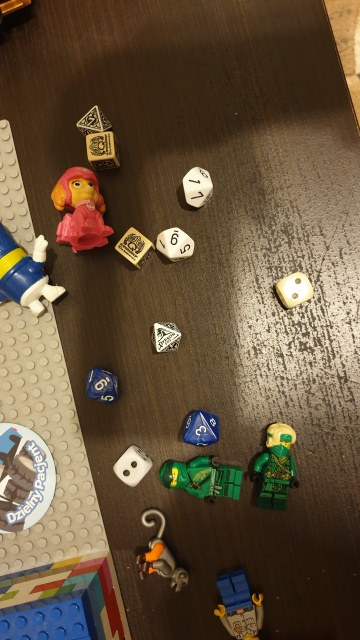d10-1: (179, 161, 218, 212)
d10-3: (177, 409, 223, 447)
d10-9: (77, 364, 126, 407), (152, 224, 197, 263)
d6-2: (271, 266, 315, 313), (110, 443, 153, 490)
d6p-6: (111, 223, 155, 271), (83, 132, 120, 166)
d8p-1: (148, 320, 186, 359)
d8p-7: (72, 104, 115, 134)
